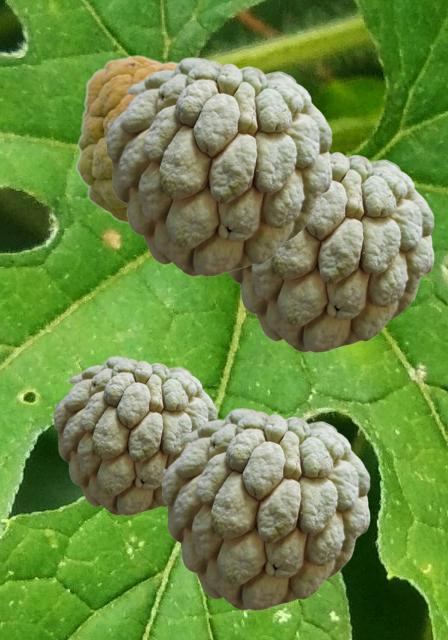atis: (105, 57, 331, 275), (161, 408, 369, 609), (228, 151, 433, 351), (53, 356, 216, 514), (75, 54, 178, 224)
